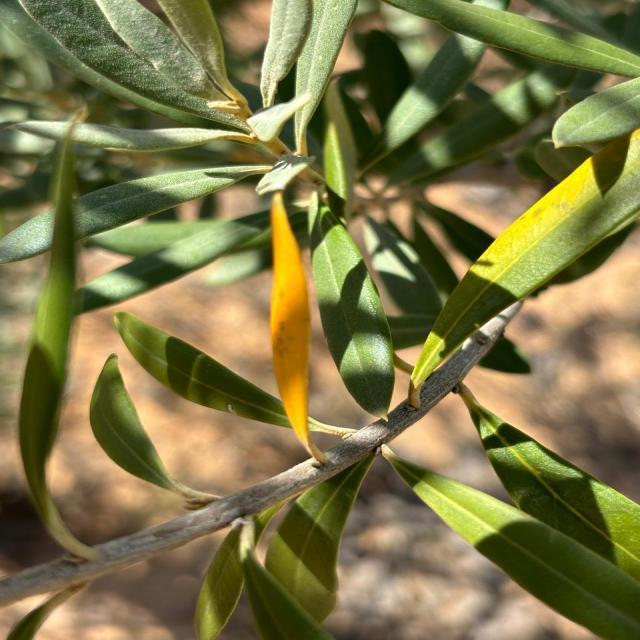OlivePeacockSpot: (270, 191, 326, 464)
